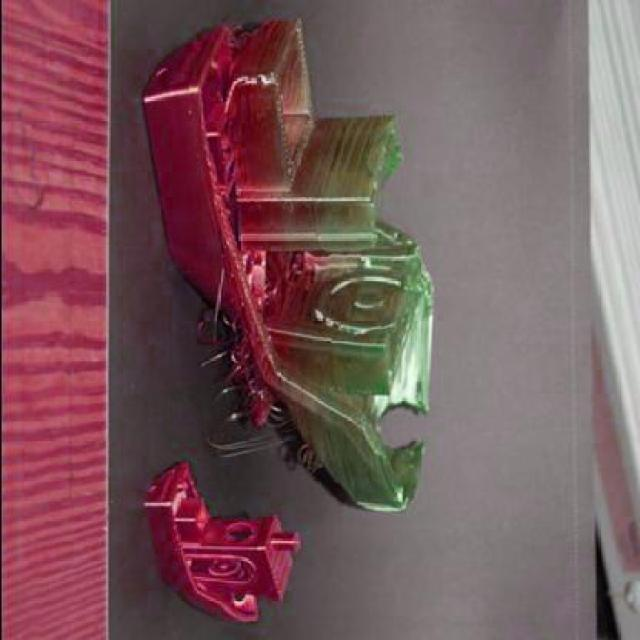Spaghetti: (198, 300, 292, 429), (204, 432, 298, 458), (288, 248, 314, 290), (296, 442, 322, 476), (228, 22, 252, 49)
